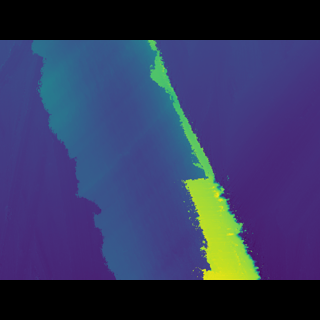Loch: (27, 70, 261, 250)
